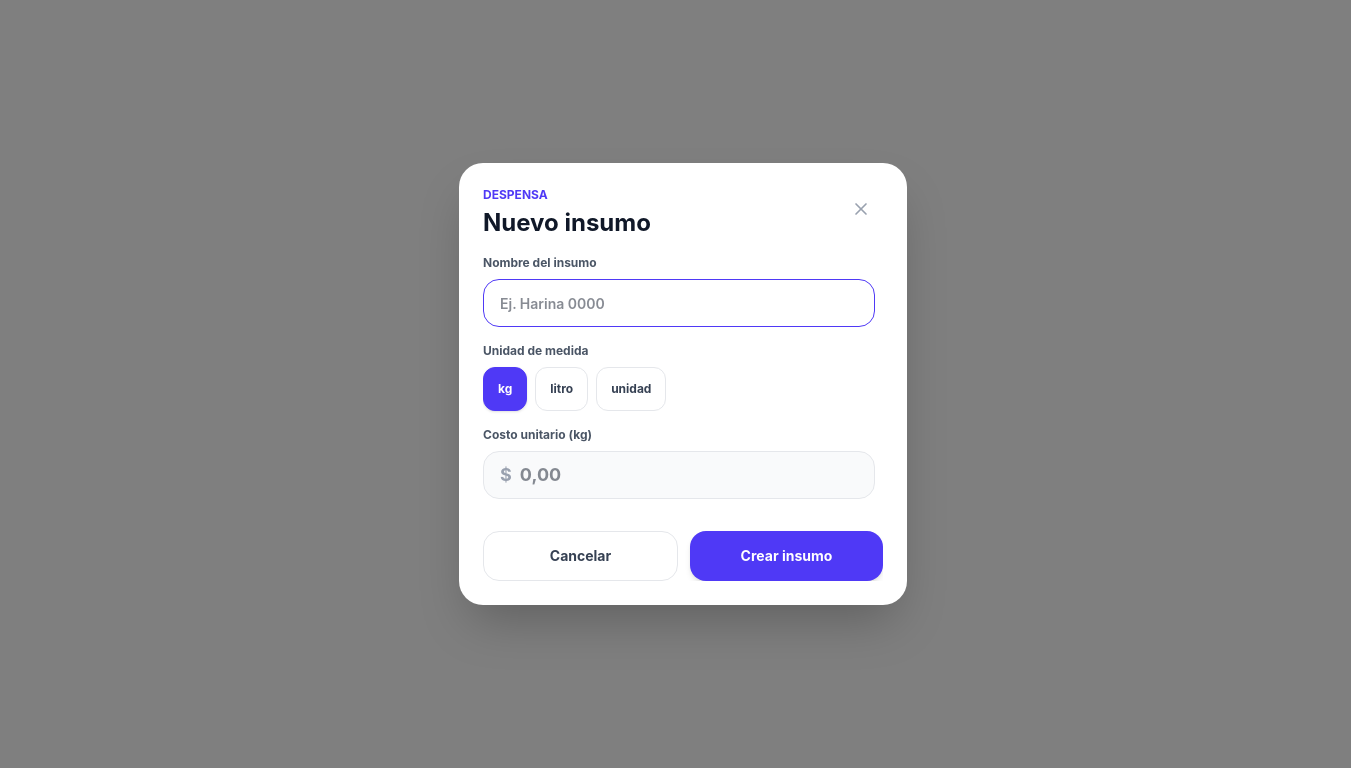
QuickCreateIngredientModal (#357) › muestra 409 en el campo nombre
This screenshot has width=1366, height=768.
Type "Harina 000" into the field labelled "Nombre del insumo".
click(679, 303); type("Harina 000")  # box x1=483 y1=279 x2=875 y2=327
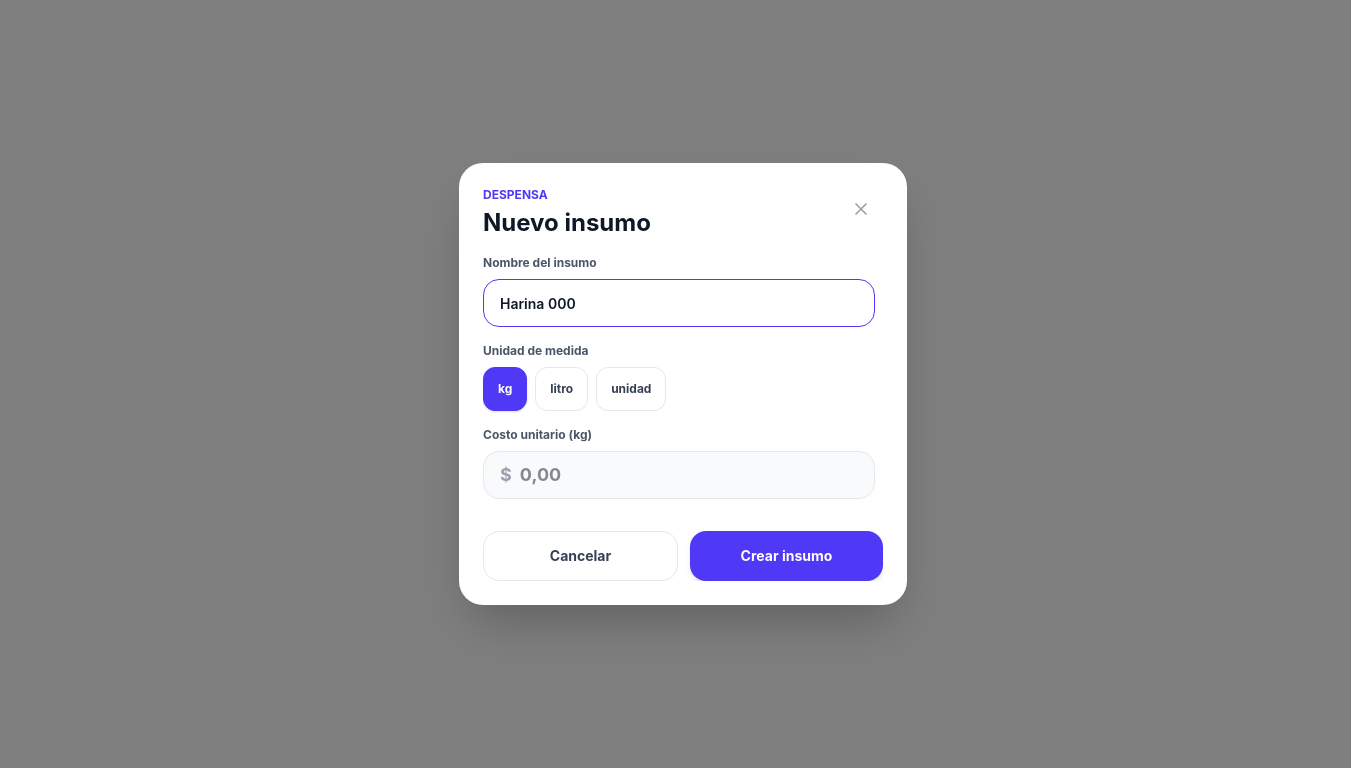
Type "750" into the field labelled "Costo unitario (kg)".
click(685, 475); type("750")  # box x1=512 y1=461 x2=858 y2=489
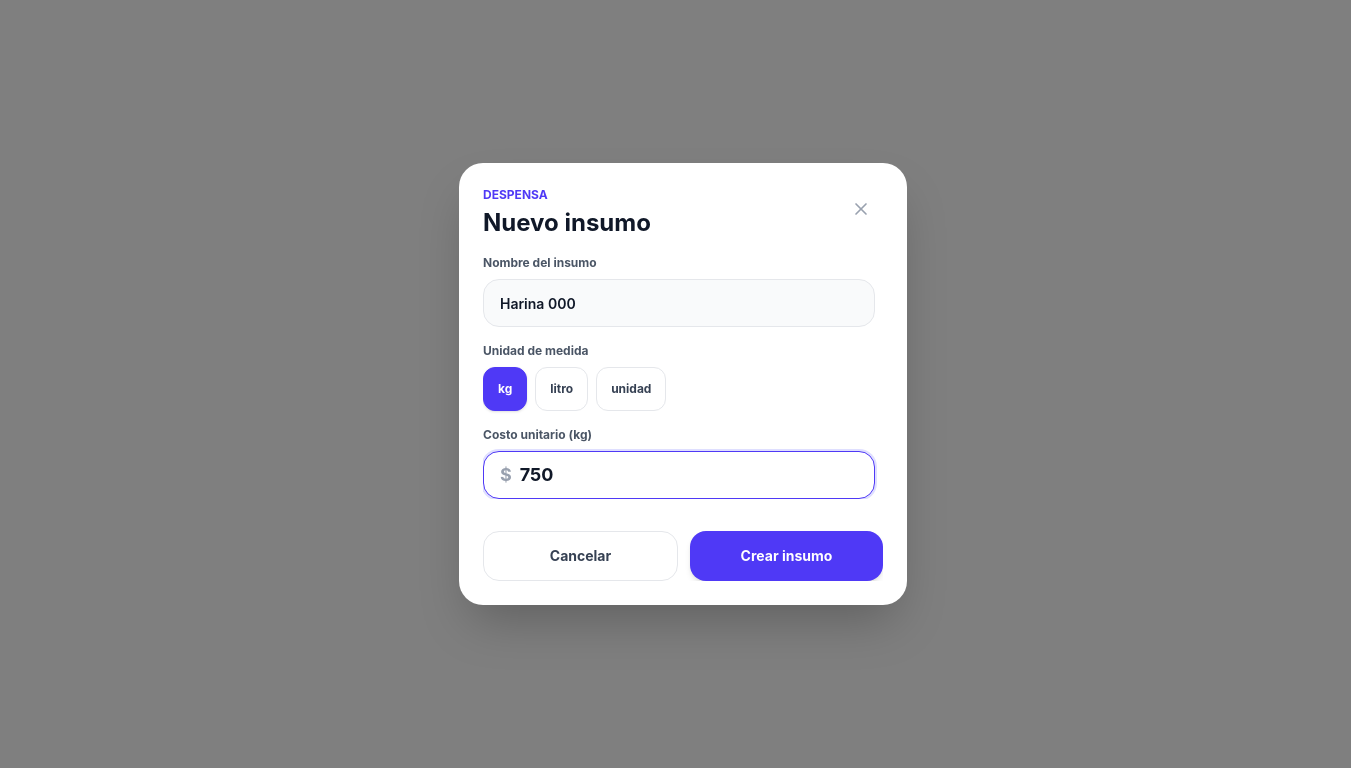
Click the button "Crear insumo".
click(786, 556)  # box x1=690 y1=531 x2=883 y2=581
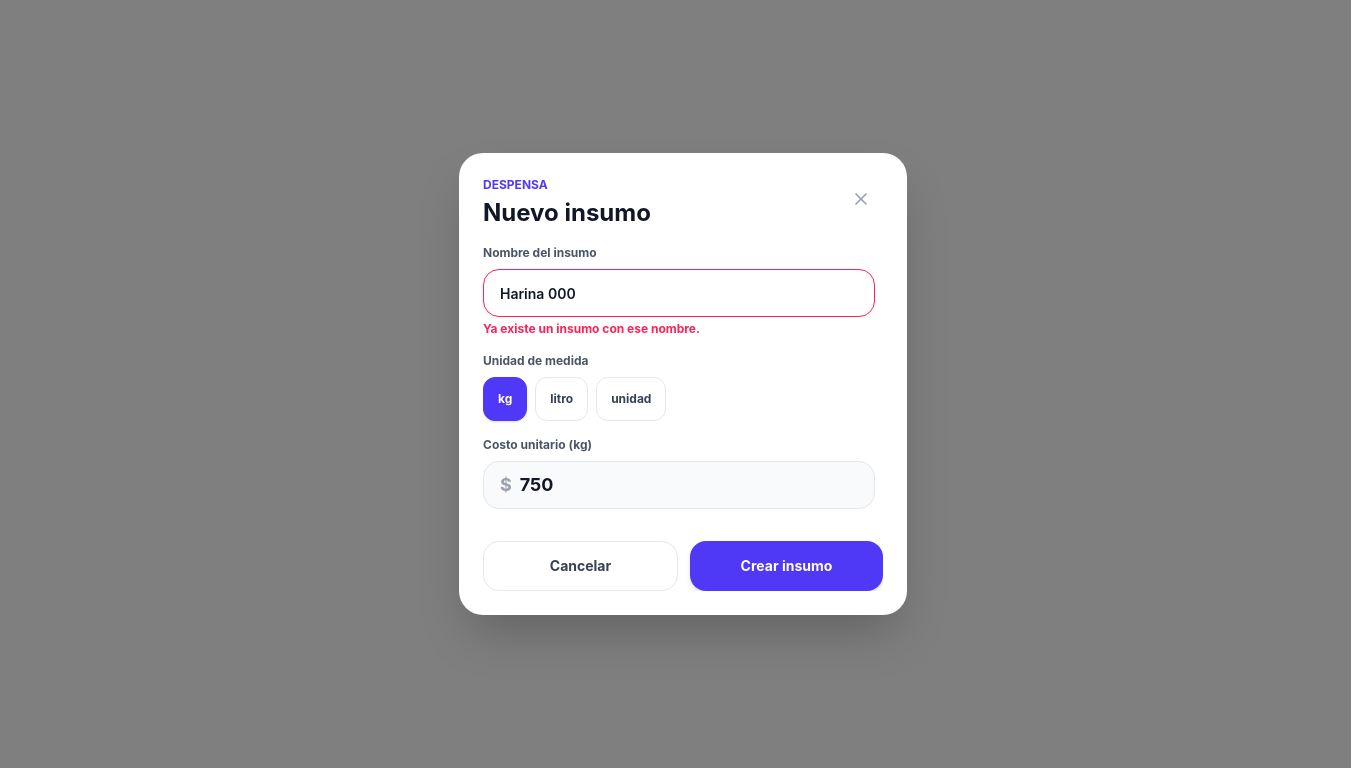
expect the text "Ya existe un insumo con ese nombre." is shown: met, box x1=483 y1=321 x2=700 y2=336
